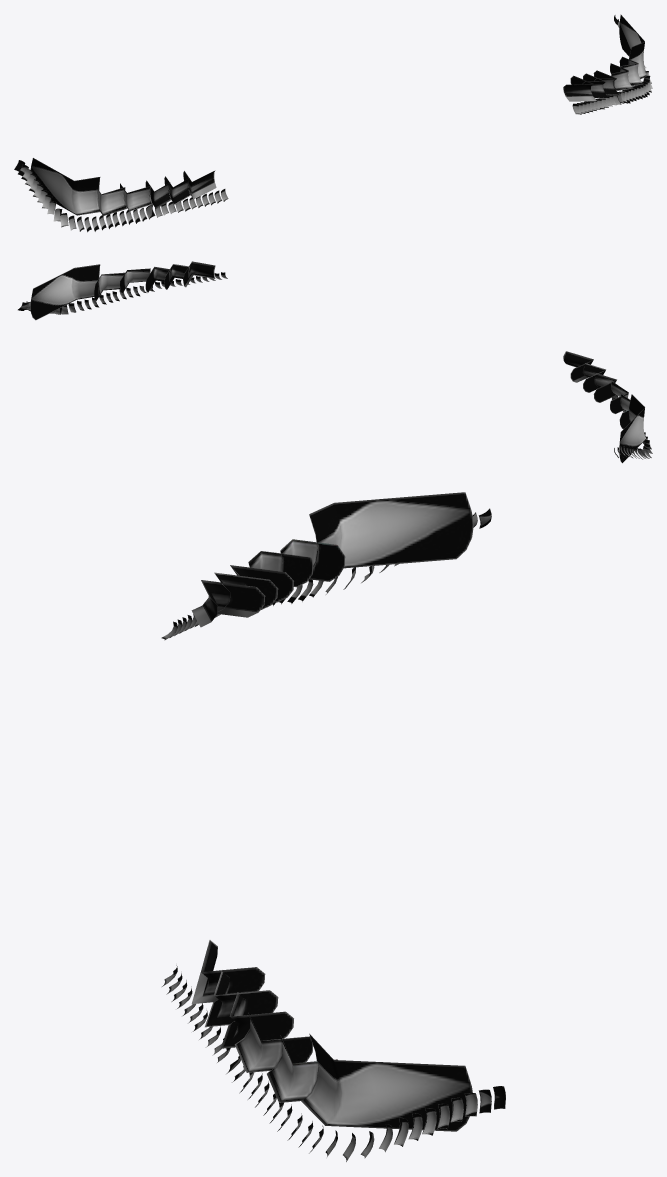
Rendered from reflectors.glb.
The picture shows the model from 3 angles, top to bottom: view 1: azimuth 30°, elevation 25°; view 2: azimuth 150°, elevation 25°; view 3: azimuth 270°, elevation 25°; orthographic projection. The views are drawn at different scales.
Visible parts, largest first — view 1: reflectors; view 2: reflectors; view 3: reflectors.
Boxes of the visible parts, x1=… form: reflectors: x1=14, y1=14, x2=652, y2=232; reflectors: x1=18, y1=261, x2=652, y2=463; reflectors: x1=161, y1=492, x2=505, y2=1161.
Size of the model in its own units: 1.5 by 0.1266 by 0.3697.
1 material, 1 textured.
